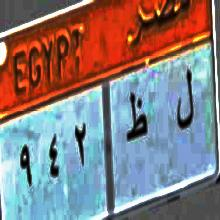2: (70, 116, 90, 180)
4: (46, 132, 64, 190)
9: (18, 136, 34, 198)
Thaa: (123, 89, 149, 153)
laam: (174, 64, 196, 140)
